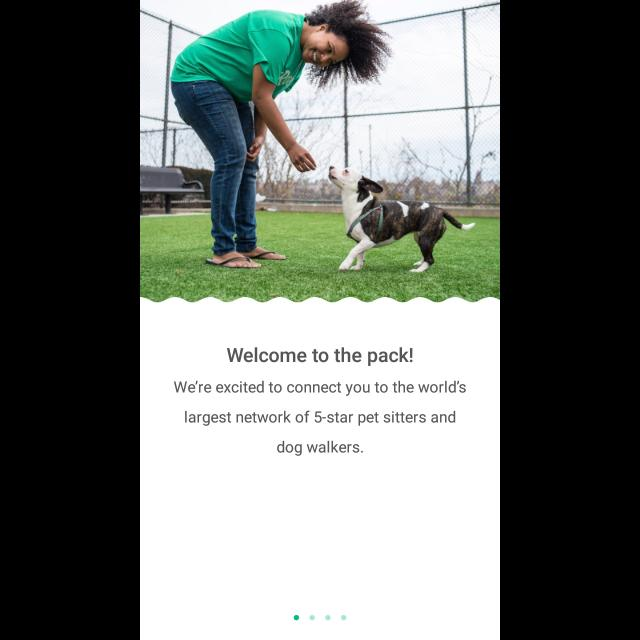image: (140, 1, 500, 303)
pageindicator: (294, 615, 346, 621)
text: (174, 380, 466, 456), (227, 348, 413, 367)
